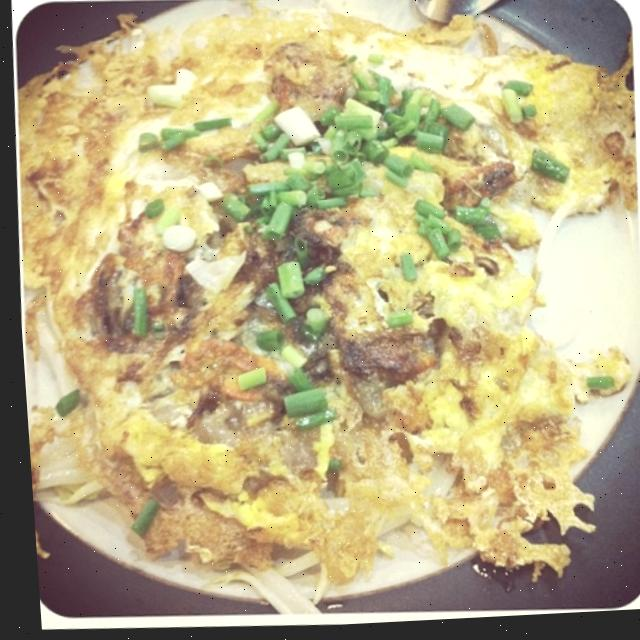炸货点心: (12, 0, 640, 633)
蛋糕甜品: (12, 0, 640, 633)
